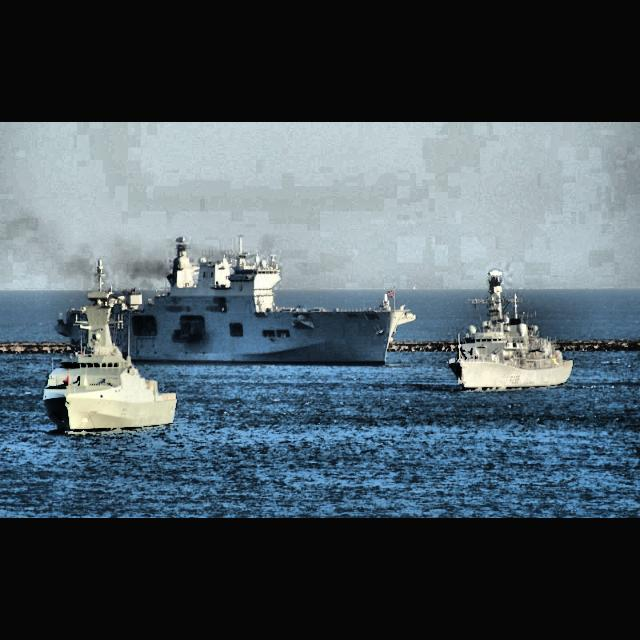combat_vessel: (39, 232, 418, 368), (36, 257, 180, 435), (446, 264, 576, 394)
